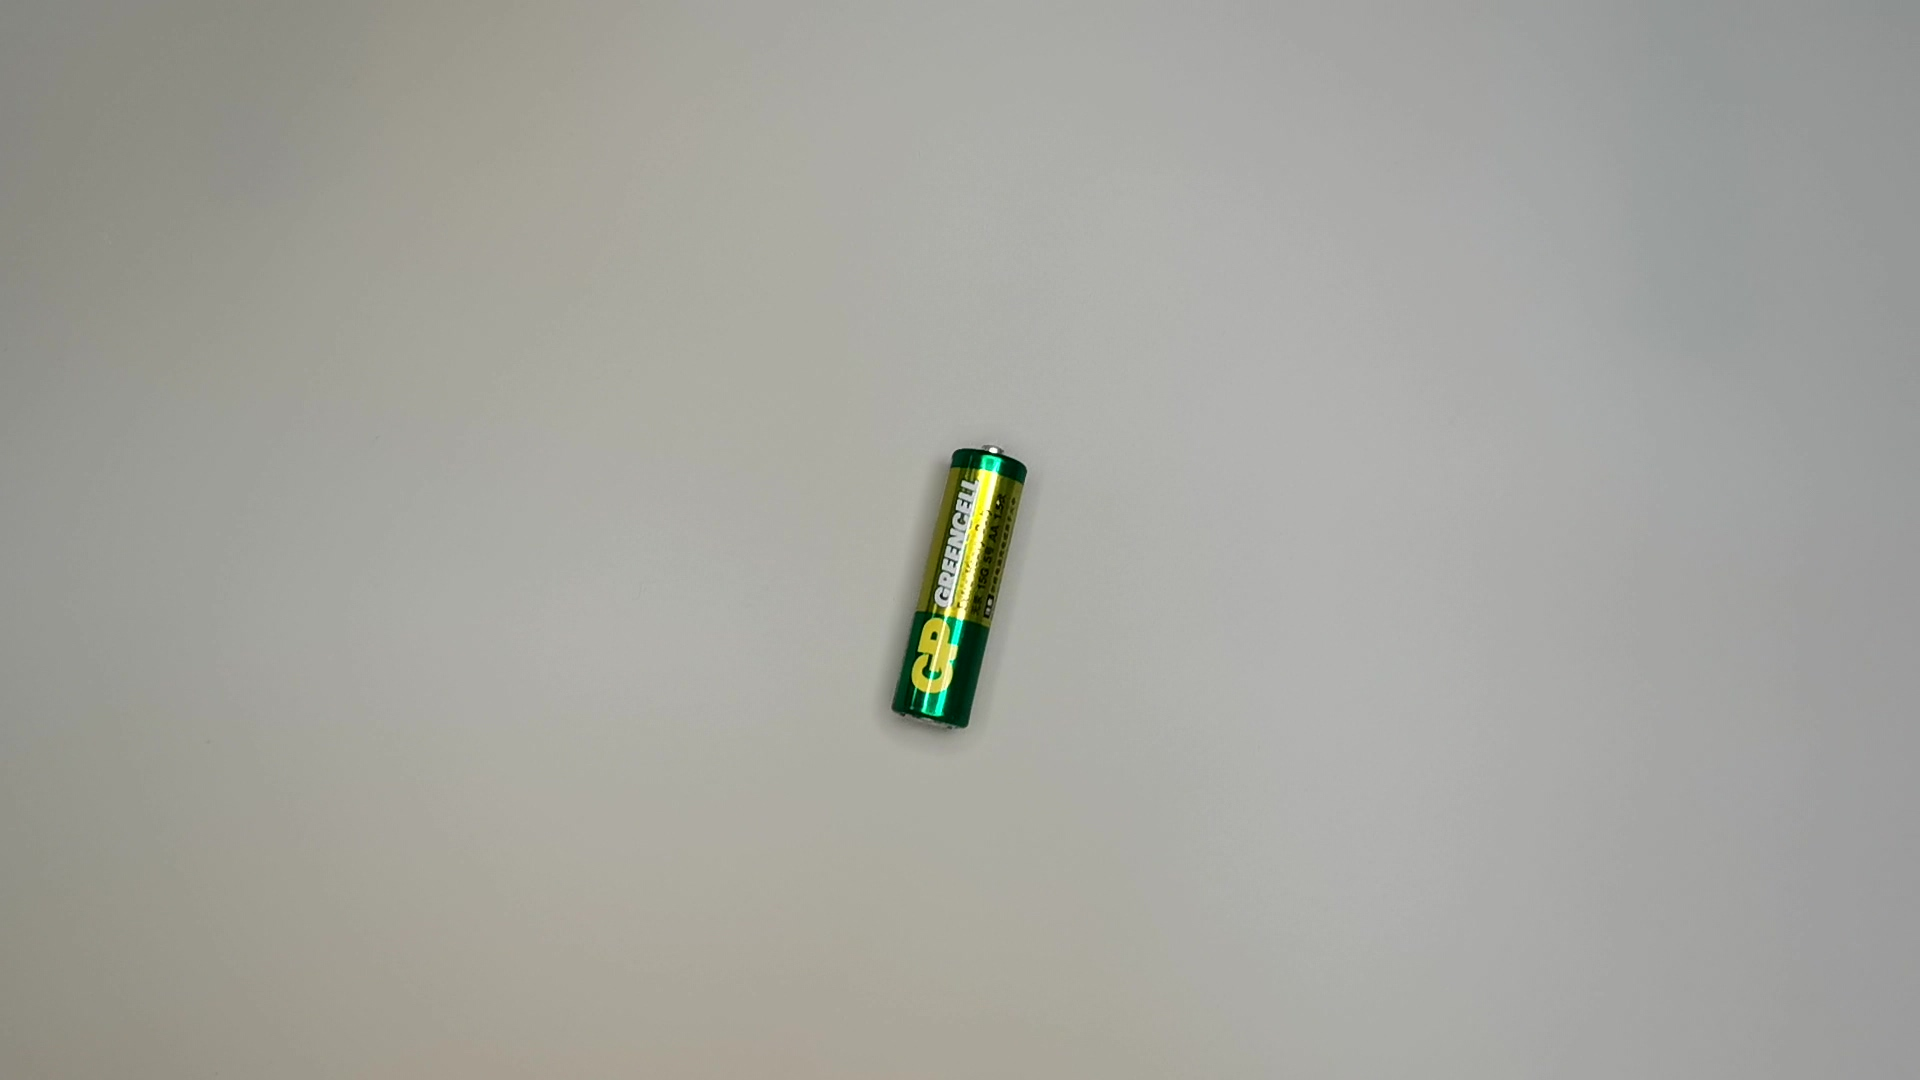battery: (887, 439, 1033, 735)
